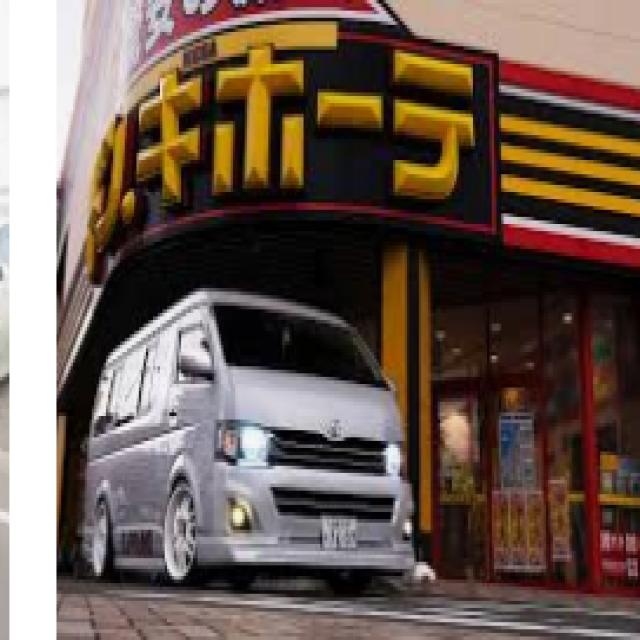Van: (78, 288, 424, 590)
